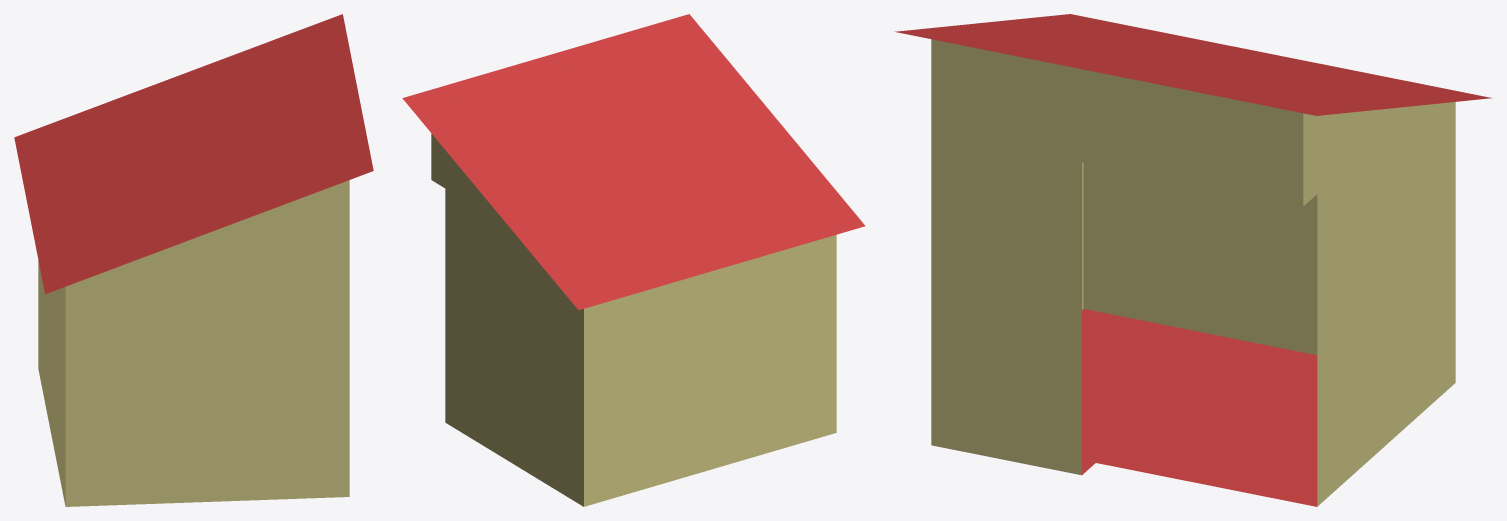
The picture shows the model from 3 angles, left to right: view 1: azimuth 30°, elevation 25°; view 2: azimuth 150°, elevation 25°; view 3: azimuth 270°, elevation 25°; orthographic projection. The views are drawn at different scales.
Size of the model in its own units: 10.25 by 10.71 by 8.27.
